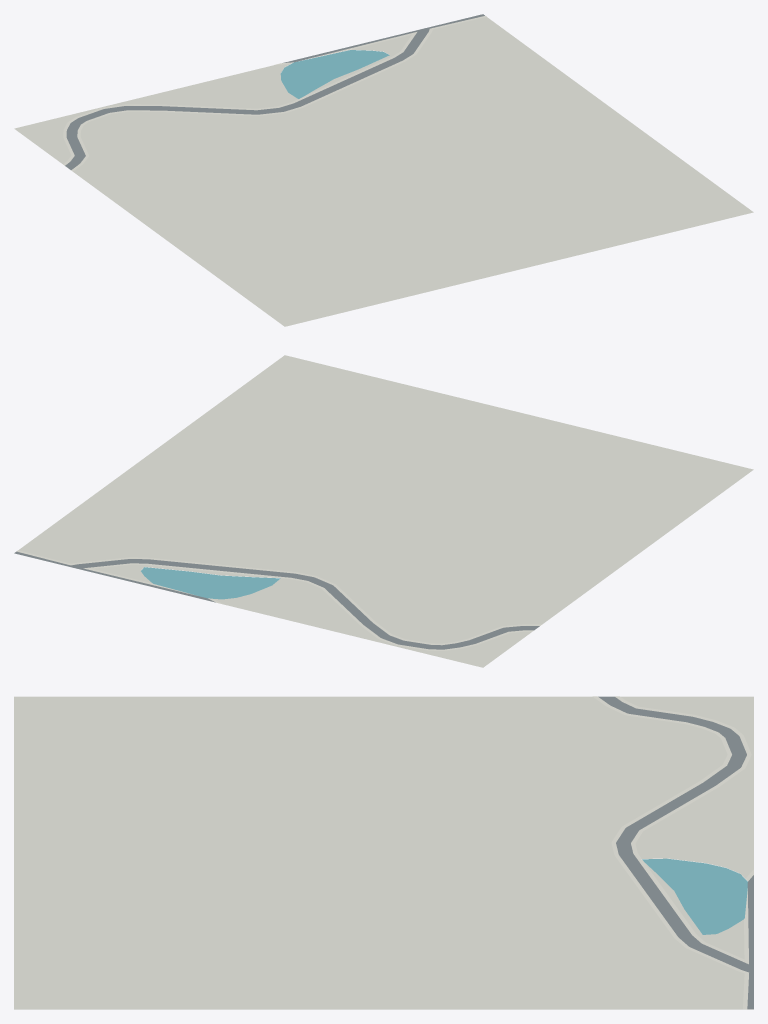
3 renders of one model, top to bottom at view 1: azimuth 30°, elevation 25°; view 2: azimuth 150°, elevation 25°; view 3: azimuth 270°, elevation 25°, orthographic. The views are drawn at different scales.
Visible parts, largest first — view 1: city; view 2: city; view 3: city.
Part boxes in pixels (bbox=[...]): city: bbox=[14, 14, 753, 326]; city: bbox=[14, 355, 753, 667]; city: bbox=[14, 696, 753, 1009].
Size of the model in its own units: 500 by 0.4 by 500.
